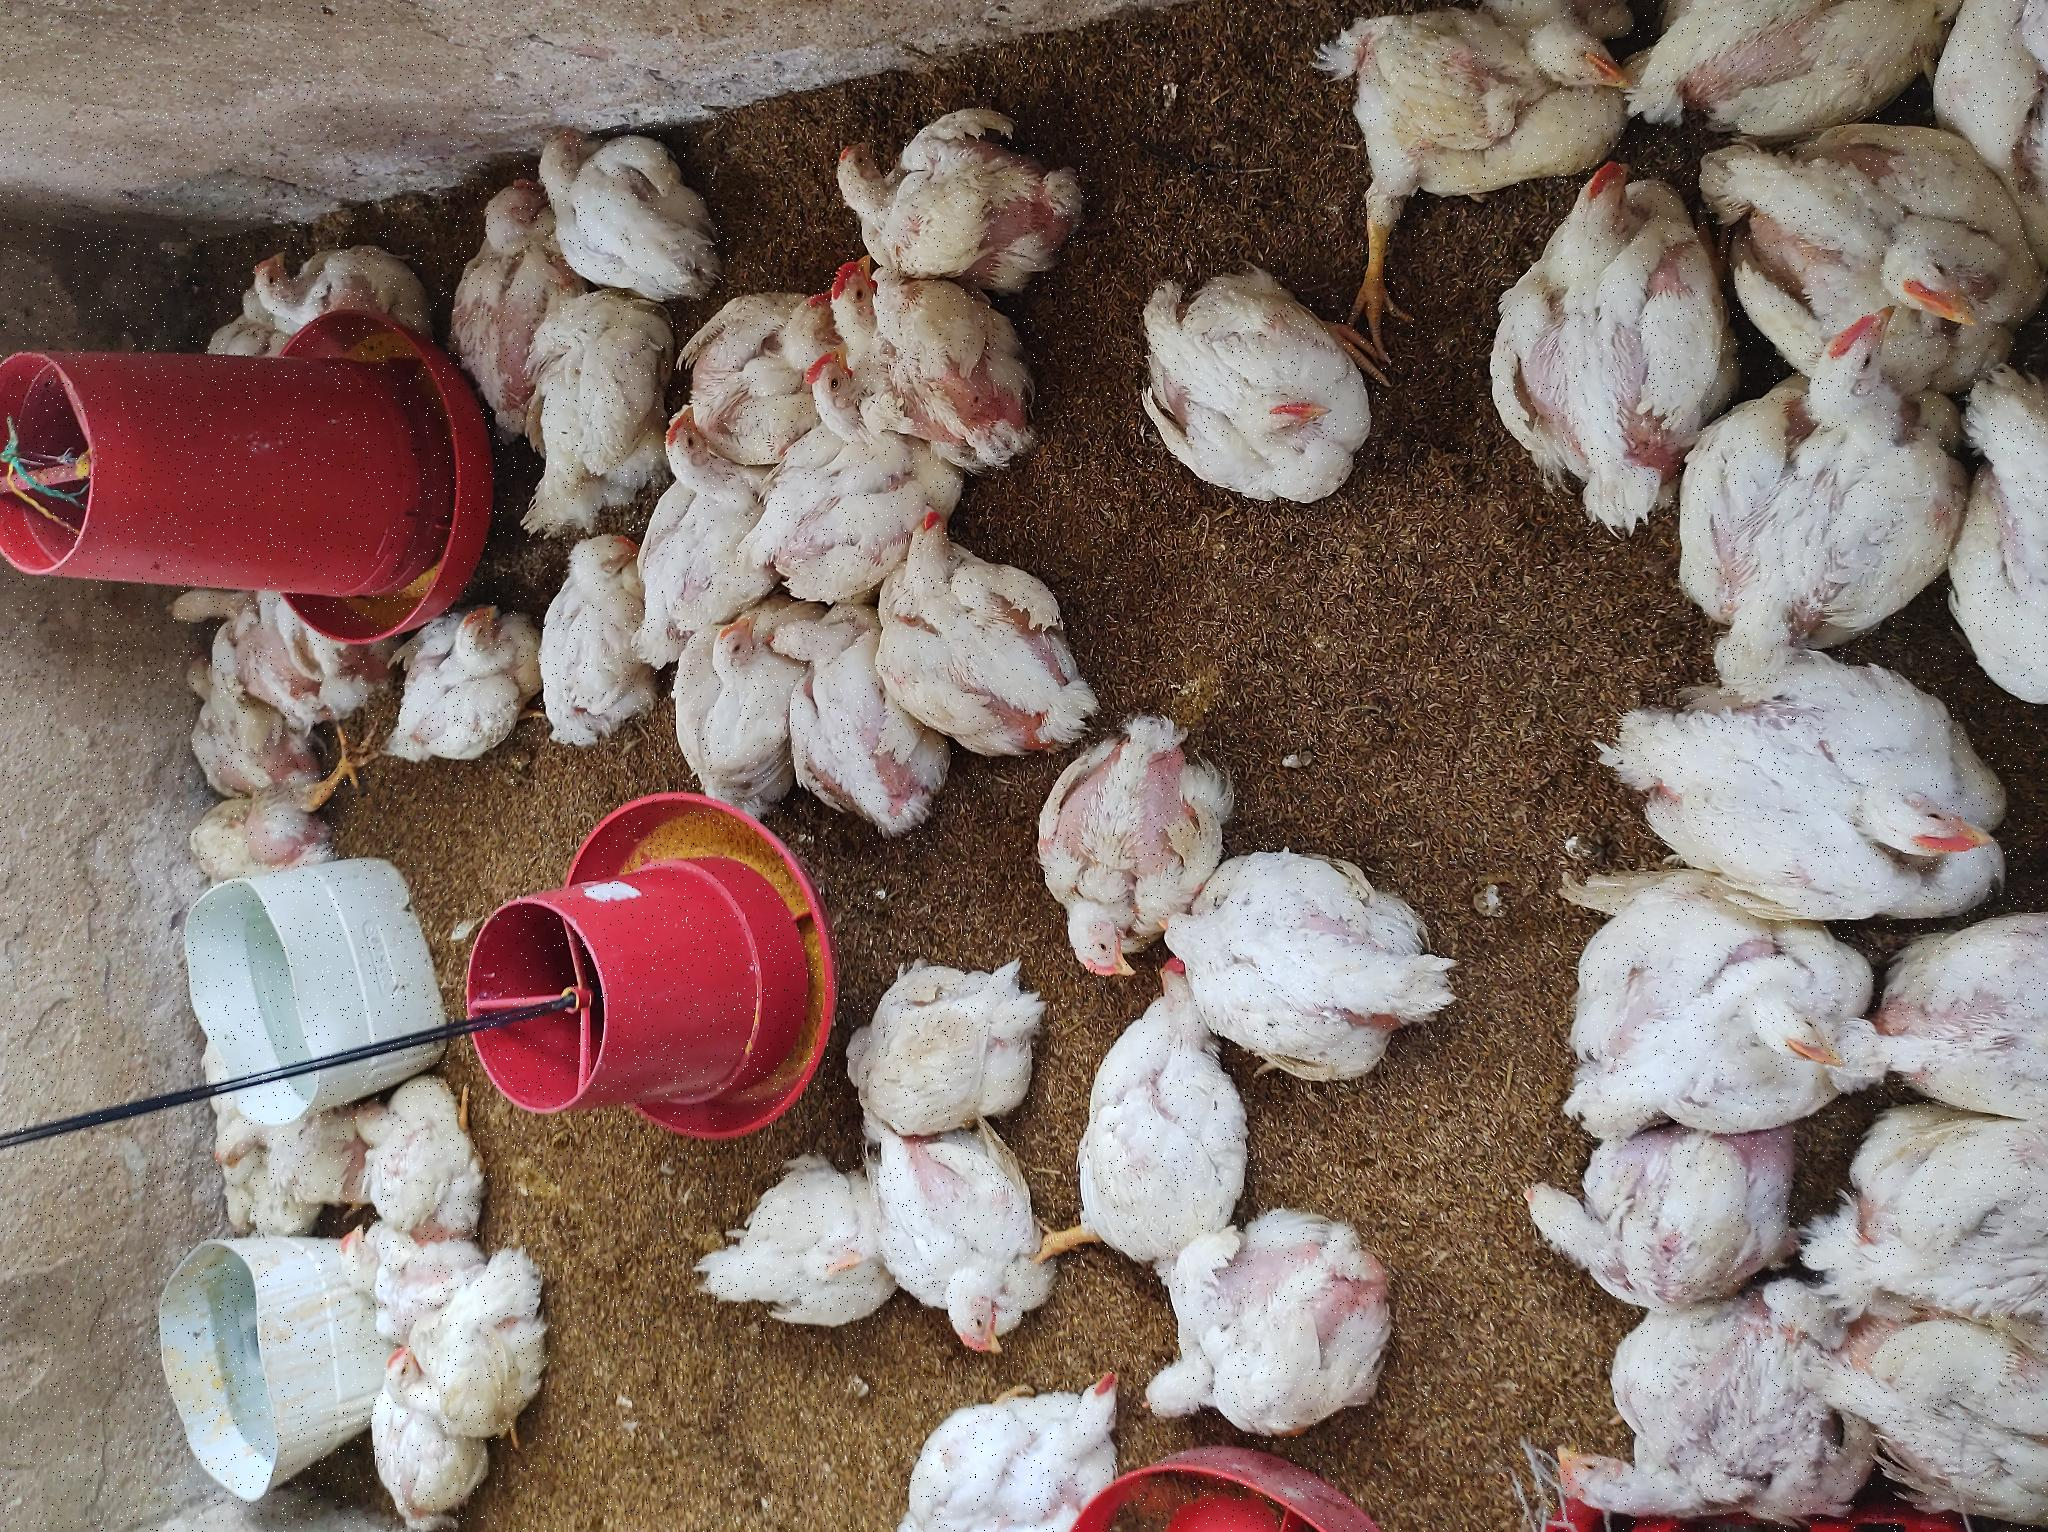Pollos: (450, 1163, 687, 1448), (92, 1126, 304, 1397), (539, 1020, 812, 1229), (270, 1059, 574, 1239), (1033, 1122, 1256, 1366), (795, 872, 1026, 1093), (1269, 824, 1448, 1091), (1306, 1329, 1533, 1532), (183, 867, 402, 1065), (996, 499, 1244, 668), (2, 900, 174, 1128), (718, 771, 919, 949), (397, 846, 582, 1040), (1247, 533, 1416, 735), (199, 687, 385, 871), (766, 373, 944, 534), (732, 649, 914, 797), (764, 541, 1007, 640), (1015, 1469, 1374, 1532), (299, 348, 449, 492), (1181, 249, 1293, 433), (637, 180, 737, 375), (941, 645, 1131, 742), (1163, 782, 1290, 922), (1046, 784, 1191, 904), (1160, 457, 1371, 536), (1136, 690, 1245, 835), (856, 134, 960, 285), (743, 174, 830, 340), (212, 306, 307, 451), (97, 352, 182, 481), (352, 193, 433, 291)
